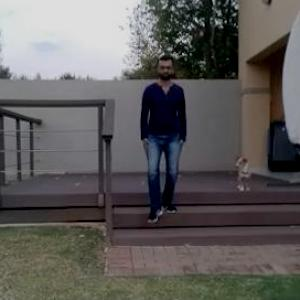follow: (137, 51, 181, 226)
